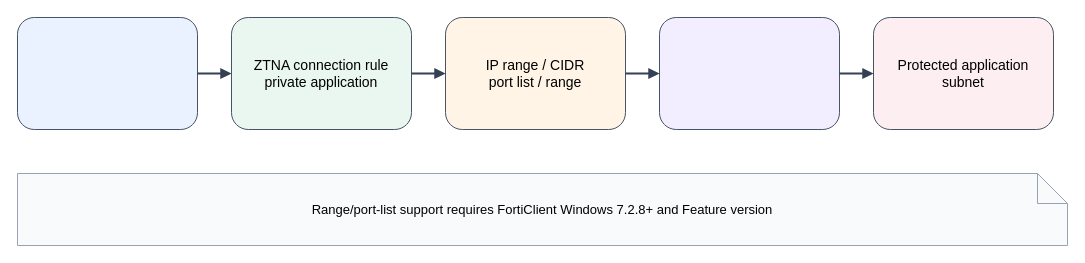
The diagram is 1085 pixels wide and 263 high, and some of its shapes have lost their labels. Each missing label, with the centre of its shape:
FortiClient endpoint assigned profile: [107,73]
FortiGate ZTNA gateway: [749,73]
